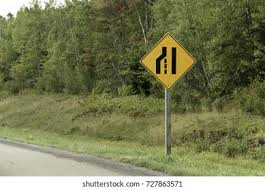narrow-road: (140, 31, 194, 87)
